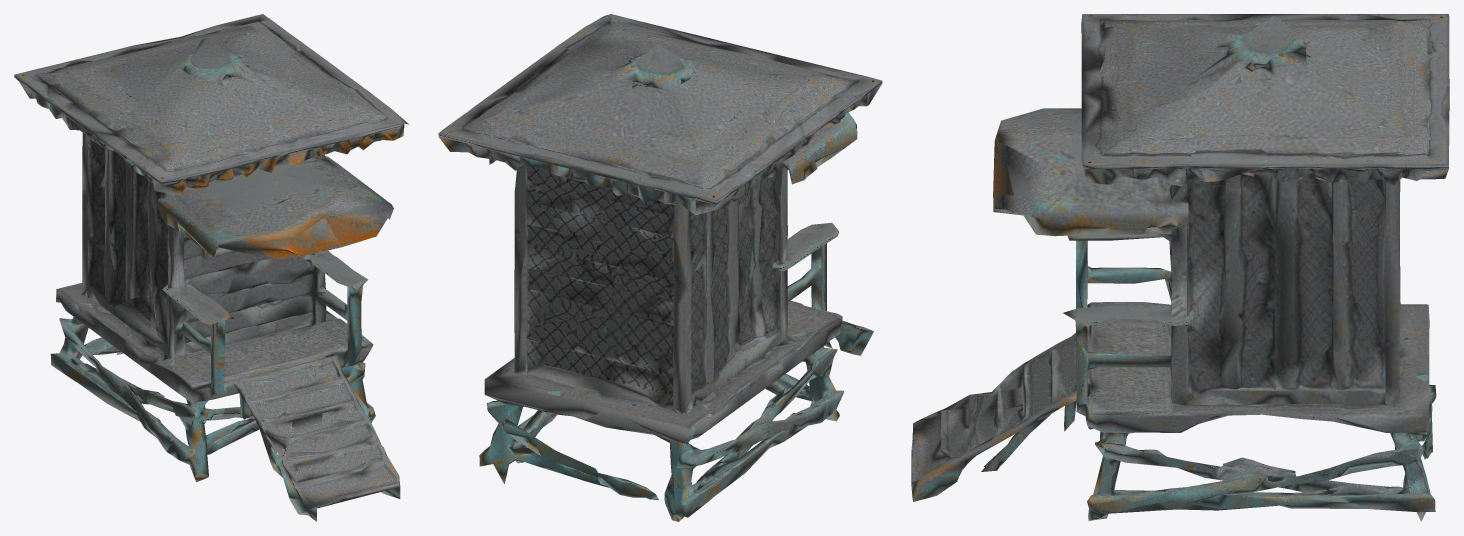
The model's file is aura_hoops_3d_blacktopLifeguardTower.8bcdaf16.glb.
3 renders of one model, left to right at view 1: azimuth 30°, elevation 25°; view 2: azimuth 150°, elevation 25°; view 3: azimuth 270°, elevation 25°, orthographic. The views are drawn at different scales.
Bounding box in the file's own units: 1.26 × 1.79 × 1.89.
Materials: 1 (1 with a texture image).
